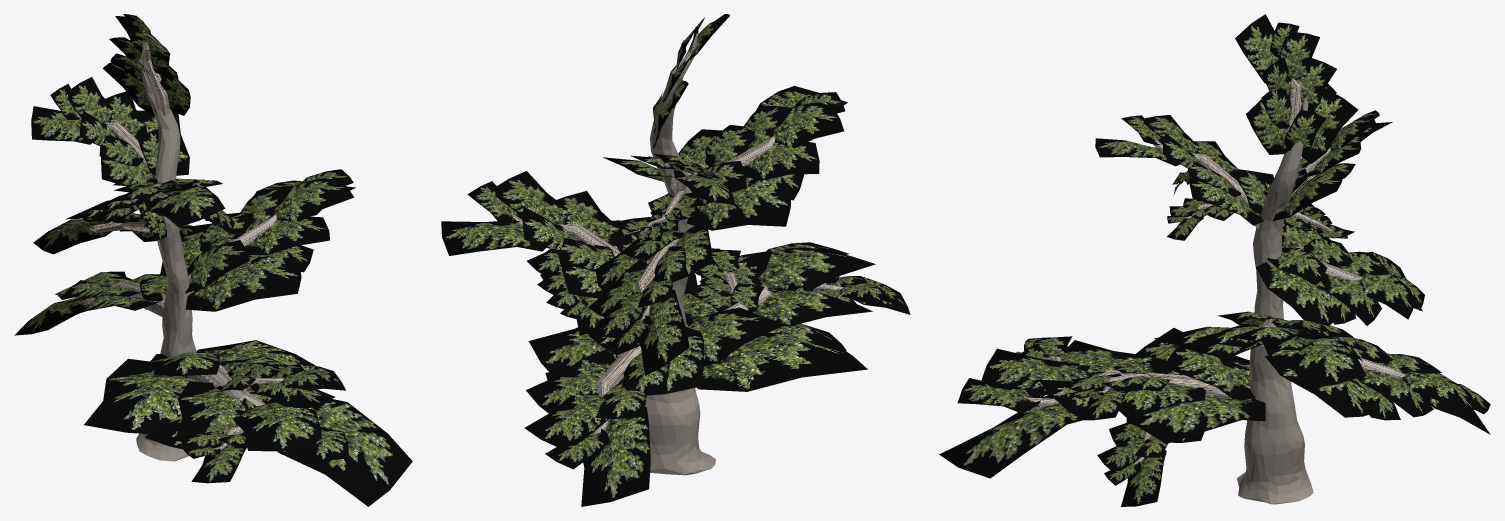
Rendered from nobble-tree-2.fbx.
The picture shows the model from 3 angles, left to right: view 1: azimuth 30°, elevation 25°; view 2: azimuth 150°, elevation 25°; view 3: azimuth 270°, elevation 25°; orthographic projection. The views are drawn at different scales.
Visible parts, largest first — view 1: branch-1, branch-3, branch-4, trunk, branch-8, branch-14, branch-6, branch-2, branch-7, branch-13, branch-9; view 2: branch-14, branch-1, branch-6, branch-3, branch-13, trunk, branch-2, branch-4, branch-11, branch-7, branch-5, branch-8; view 3: branch-1, trunk, branch-8, branch-13, branch-14, branch-3, branch-6, branch-12, branch-4, branch-2, branch-10, branch-7 (+1 smaller).
Boxes of the visible parts, x1,y1,x2,y2 form: branch-1: [84, 340, 412, 506]; branch-3: [160, 169, 355, 311]; branch-4: [31, 77, 189, 185]; trunk: [136, 59, 196, 461]; branch-8: [102, 14, 190, 117]; branch-14: [14, 271, 166, 335]; branch-6: [66, 178, 225, 227]; branch-2: [216, 362, 345, 408]; branch-7: [179, 409, 250, 483]; branch-13: [33, 213, 208, 254]; branch-9: [135, 199, 166, 240]; branch-14: [524, 327, 703, 506]; branch-1: [683, 242, 875, 391]; branch-6: [678, 86, 847, 230]; branch-3: [441, 171, 698, 298]; branch-13: [588, 226, 711, 375]; trunk: [644, 83, 715, 475]; branch-2: [690, 248, 777, 312]; branch-4: [603, 154, 735, 205]; branch-11: [527, 240, 614, 335]; branch-7: [787, 276, 910, 314]; branch-5: [621, 190, 700, 241]; branch-8: [653, 14, 729, 147]; branch-1: [939, 328, 1291, 478]; trunk: [1237, 97, 1313, 504]; branch-8: [1235, 14, 1358, 163]; branch-13: [1256, 225, 1424, 325]; branch-14: [1265, 336, 1490, 434]; branch-3: [1154, 311, 1366, 388]; branch-6: [1095, 115, 1293, 229]; branch-12: [1097, 418, 1204, 506]; branch-4: [1264, 110, 1392, 220]; branch-2: [1063, 366, 1170, 420]; branch-10: [1167, 198, 1233, 240]; branch-7: [1015, 336, 1090, 395].
Bounding box in the file's own units: 824 × 1014 × 1128.
